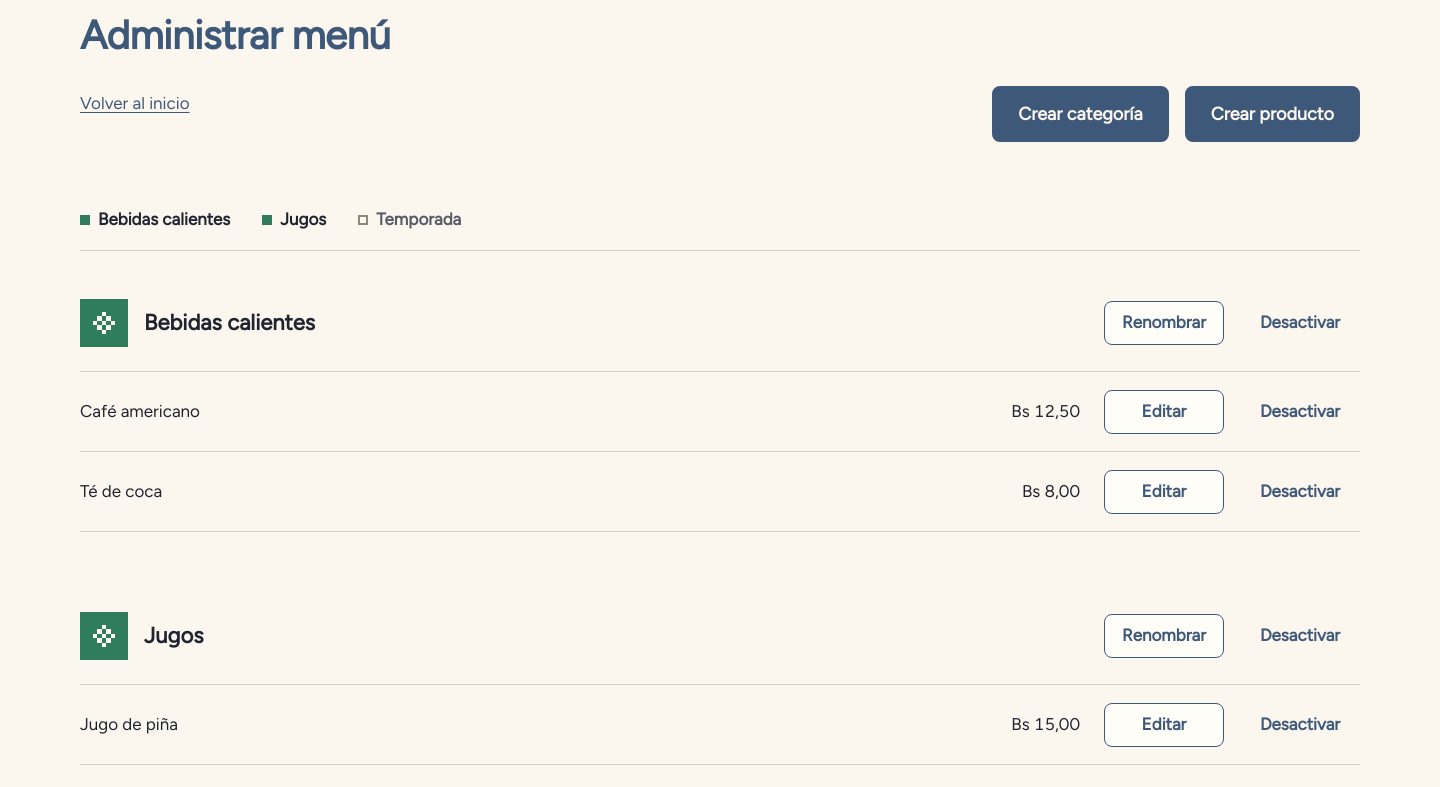
it: administración del menú (RF-1, RF-2) › muestra el conflicto junto a la categoría y no ofrece eliminar (RF-10, RF-12)
Click the button with aria-label "Desactivar categoría Bebidas calientes" at [1300, 323], box [1240,301,1360,345]
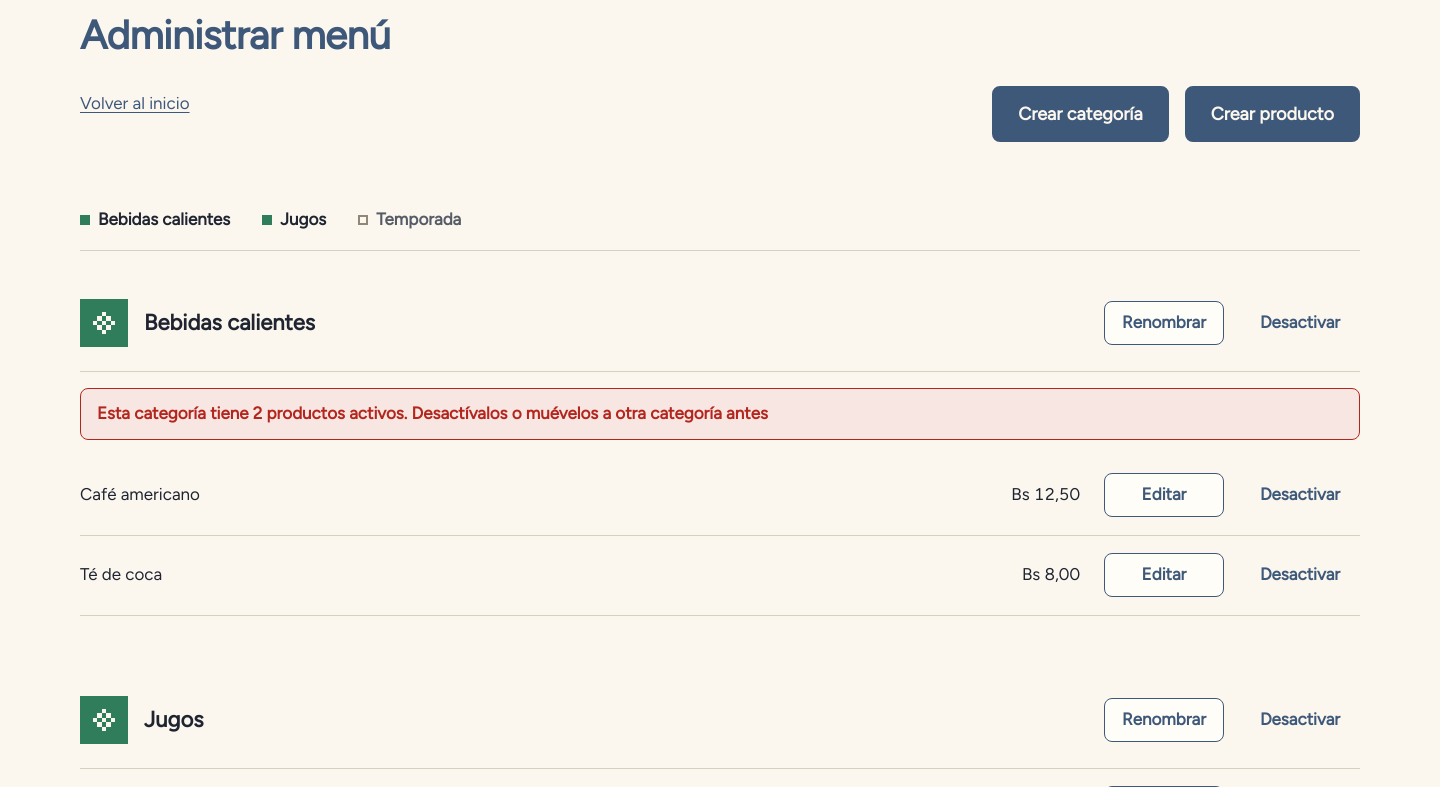
Expected: the message shows "Esta categoría tiene 2 productos activos", [97,403,768,423]
